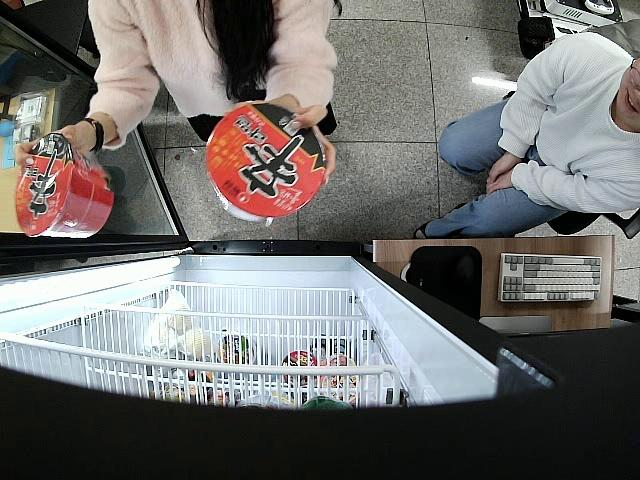00_hand: (268, 100, 338, 184), (13, 125, 84, 166)
01_shinRamen_L: (203, 101, 325, 224), (15, 133, 115, 240)
